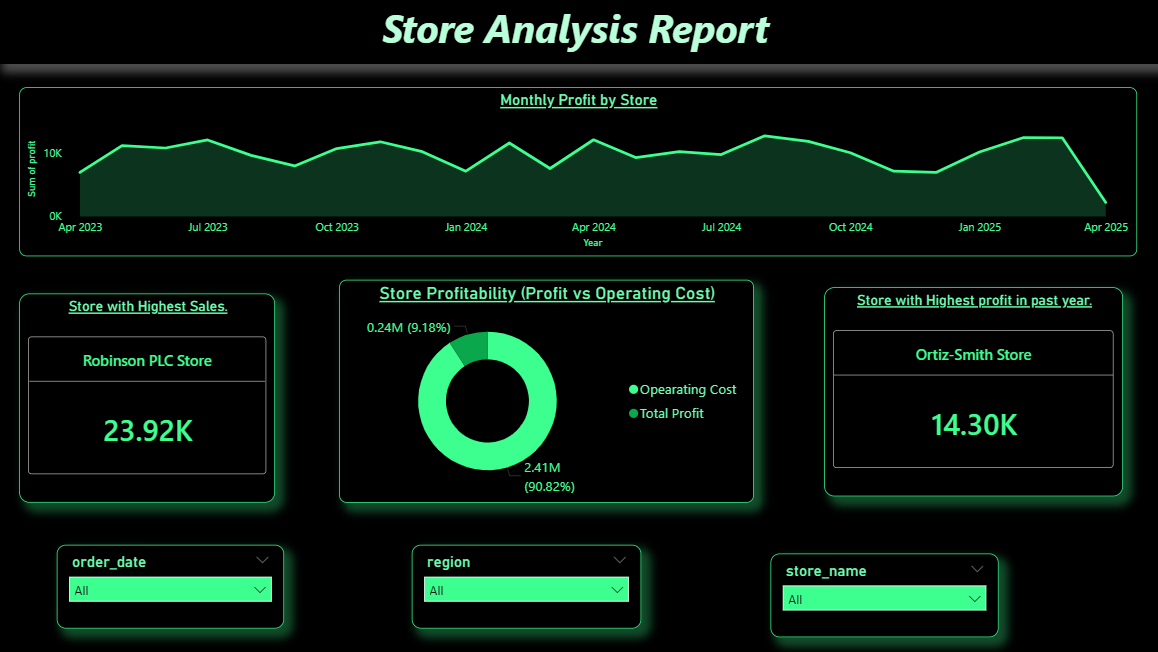

The page's visual inventory and layout, read from the dashboard file:
{"tool":"powerbi","page":{"name":"Store Analysis","canvas":[1280,720],"ordinal":3},"visuals":[{"type":"slicer","fields":{"Values":["stores_cleaned.store_name"]},"box":[848.6,611.4,250.7,91.7],"z":0},{"type":"slicer","fields":{"Values":["customers_cleaned.region"]},"box":[453.7,602.9,251.9,91.7],"z":1000},{"type":"slicer","fields":{"Values":["sales_cleaned.order_date"]},"box":[64.8,602.9,249.5,91.7],"z":2000},{"type":"lineChart","title":"Monthly Profit by Store","fields":{"Category":["sales_cleaned.order_date.Variation.Date Hierarchy.Year","sales_cleaned.order_date.Variation.Date Hierarchy.Month"],"Y":["Sum(sales_cleaned.profit)"]},"box":[22.9,100.1,1227,185.8],"z":3000},{"type":"donutChart","title":"Store Profitability (Profit vs Operating Cost)","fields":{"Y":["stores_cleaned.Opearating Cost","stores_cleaned.Total Profit"]},"box":[375.2,311.3,454.8,244.9],"z":4000},{"type":"cardVisual","title":" Store with Highest Sales.","fields":{"Data":["stores_cleaned.Store Revenue"],"Rows":["stores_cleaned.store_name"]},"box":[22.9,326.9,281.1,229.2],"z":5000},{"type":"cardVisual","title":" Store with Highest profit in past year. ","fields":{"Data":["sales_cleaned.Total_Revenue_in_last_12_months"],"Rows":["stores_cleaned.store_name"]},"box":[907.2,319.7,328.2,229.2],"z":6000},{"type":"textbox","box":[0,0,1280.4,74.3],"z":7000}]}

Visuals, with their boxes in screenshot pixels (x1, y1, x2, y2), scaled from the page's 1280x720 canvas onto the 1158x652 screenshot:
slicer - stores_cleaned.store_name: <box>768,554,995,637</box>
slicer - customers_cleaned.region: <box>410,546,638,629</box>
slicer - sales_cleaned.order_date: <box>59,546,284,629</box>
"Monthly Profit by Store" lineChart: <box>21,91,1131,259</box>
"Store Profitability (Profit vs Operating Cost)" donutChart: <box>339,282,751,504</box>
" Store with Highest Sales." cardVisual: <box>21,296,275,504</box>
" Store with Highest profit in past year. " cardVisual: <box>821,290,1118,497</box>
textbox: <box>0,0,1157,67</box>
